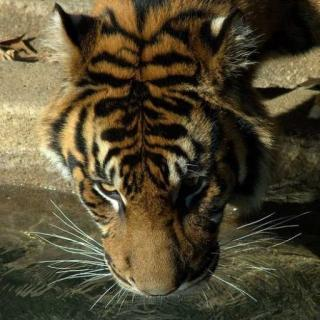Tiger: (23, 0, 320, 309)
